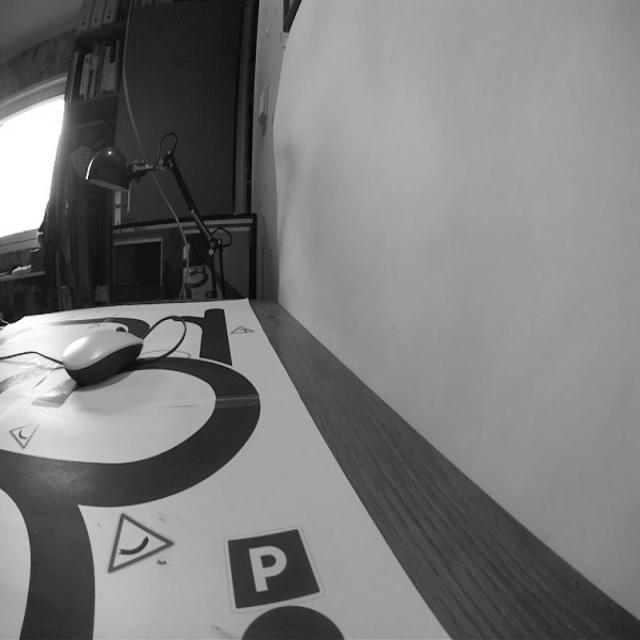Parking: (223, 520, 324, 616)
